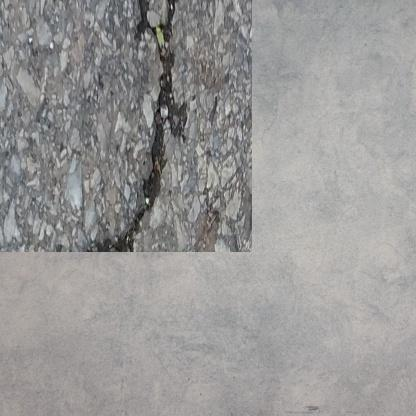Cracks: (77, 0, 179, 233)
